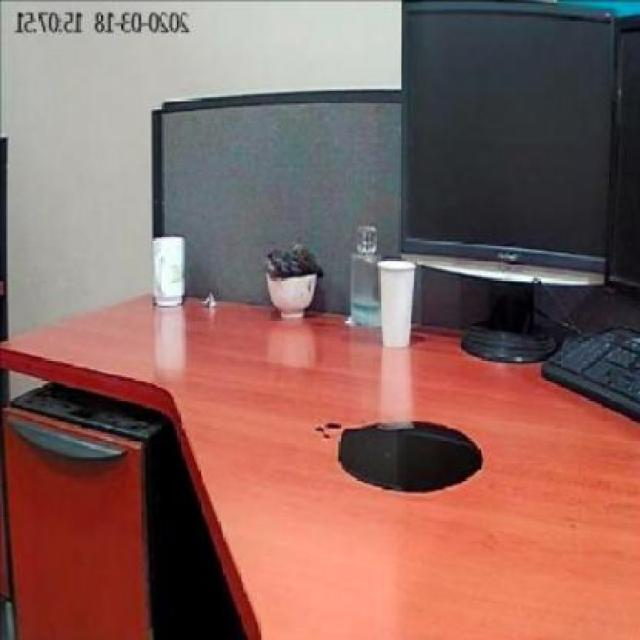spillage: (310, 419, 484, 495)
